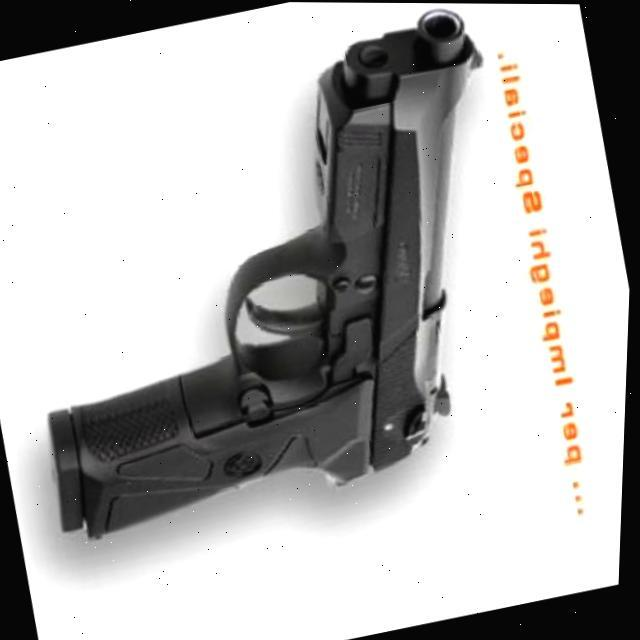gun: (0, 0, 567, 552)
